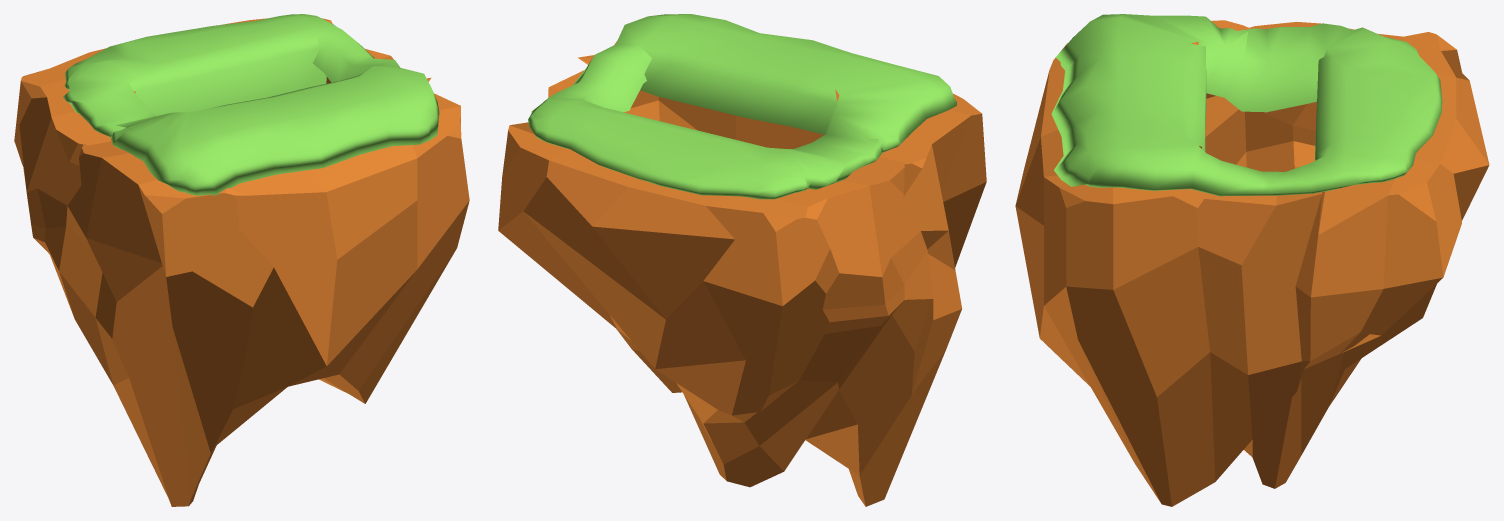
File: LevelIsland1.fbx
3 renders of one model, left to right at view 1: azimuth 30°, elevation 25°; view 2: azimuth 150°, elevation 25°; view 3: azimuth 270°, elevation 25°, orthographic. The views are drawn at different scales.
Parts seen in each view (by area): view 1: LevelIsland1; view 2: LevelIsland1; view 3: LevelIsland1.
Part boxes in pixels (x1,y1,x2,y2): LevelIsland1: (14,14,469,506); LevelIsland1: (498,14,986,506); LevelIsland1: (1015,14,1489,506).
Bounding box in the file's own units: 491 × 508 × 490.
